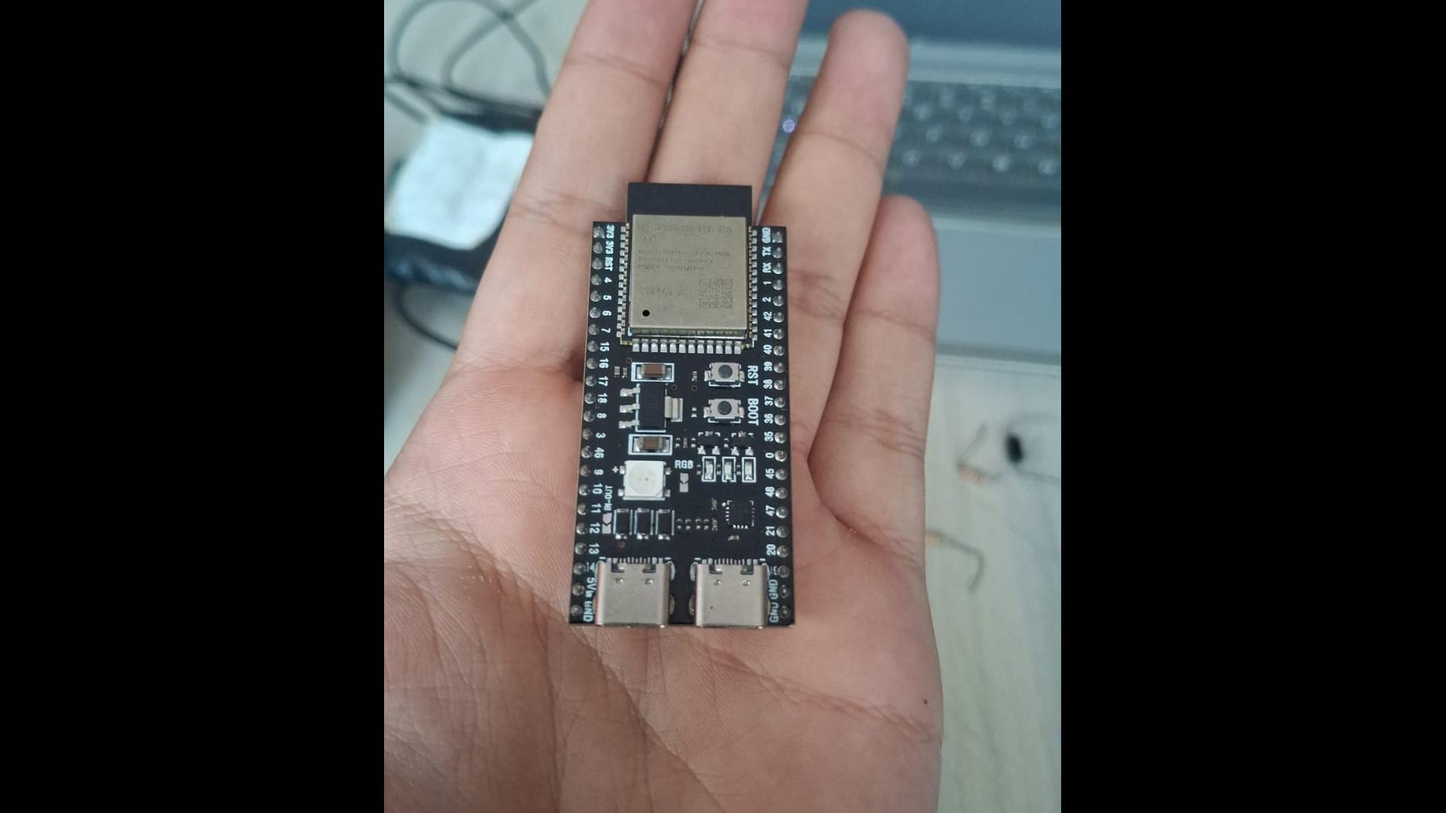ESP32: (569, 184, 794, 629)
